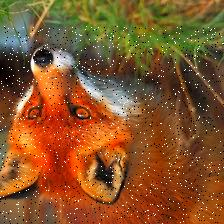fox: (0, 26, 224, 224)
